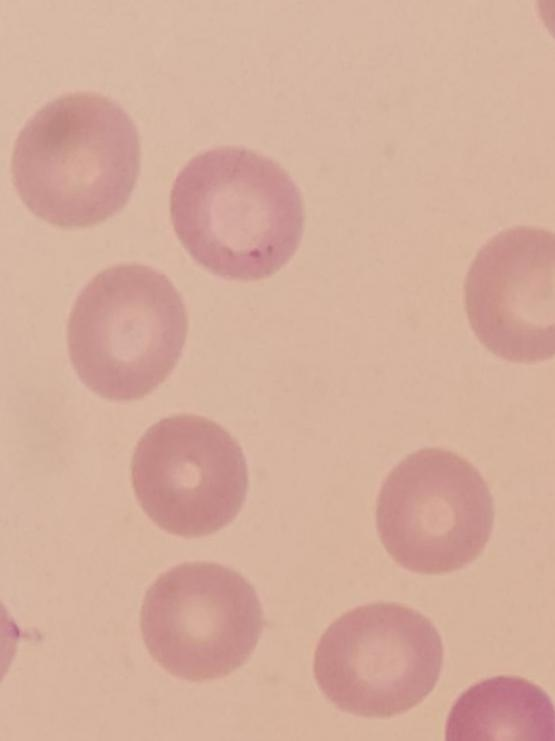Uninfected: (62, 263, 189, 405), (174, 147, 305, 282), (14, 89, 137, 225), (130, 411, 253, 541), (138, 559, 258, 679), (374, 451, 489, 573), (314, 601, 439, 713), (460, 225, 555, 358)
